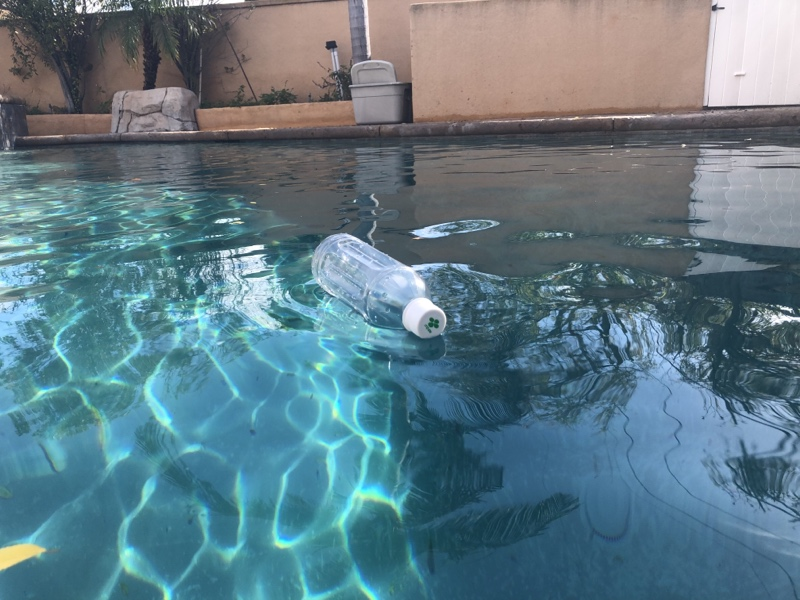Plastic Bottle: (310, 230, 450, 346)
